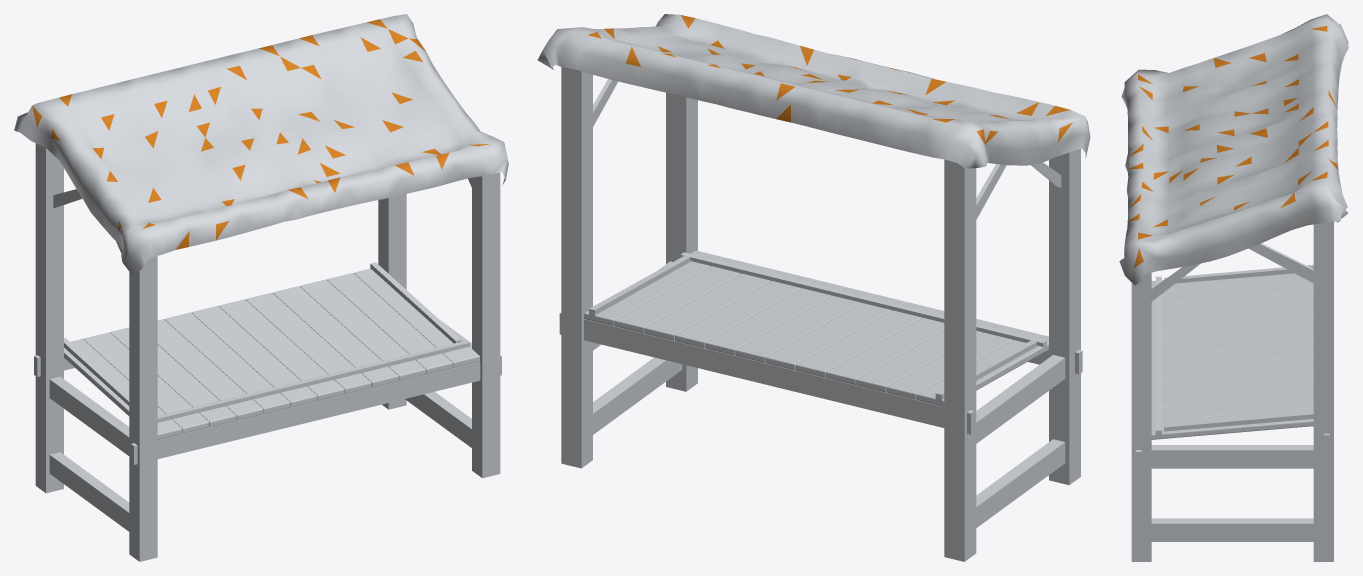
The picture shows the model from 3 angles, left to right: view 1: azimuth 30°, elevation 25°; view 2: azimuth 150°, elevation 25°; view 3: azimuth 270°, elevation 25°; orthographic projection. The views are drawn at different scales.
Visible parts, largest first — view 1: 000-0-0; view 2: 000-0-0; view 3: 000-0-0.
Part boxes in pixels (left/top/right/bottom): 000-0-0: left=14, top=14, right=508, bottom=561; 000-0-0: left=537, top=14, right=1090, bottom=561; 000-0-0: left=1119, top=14, right=1348, bottom=561.
Bounding box in the file's own units: 222 × 204 × 113.
